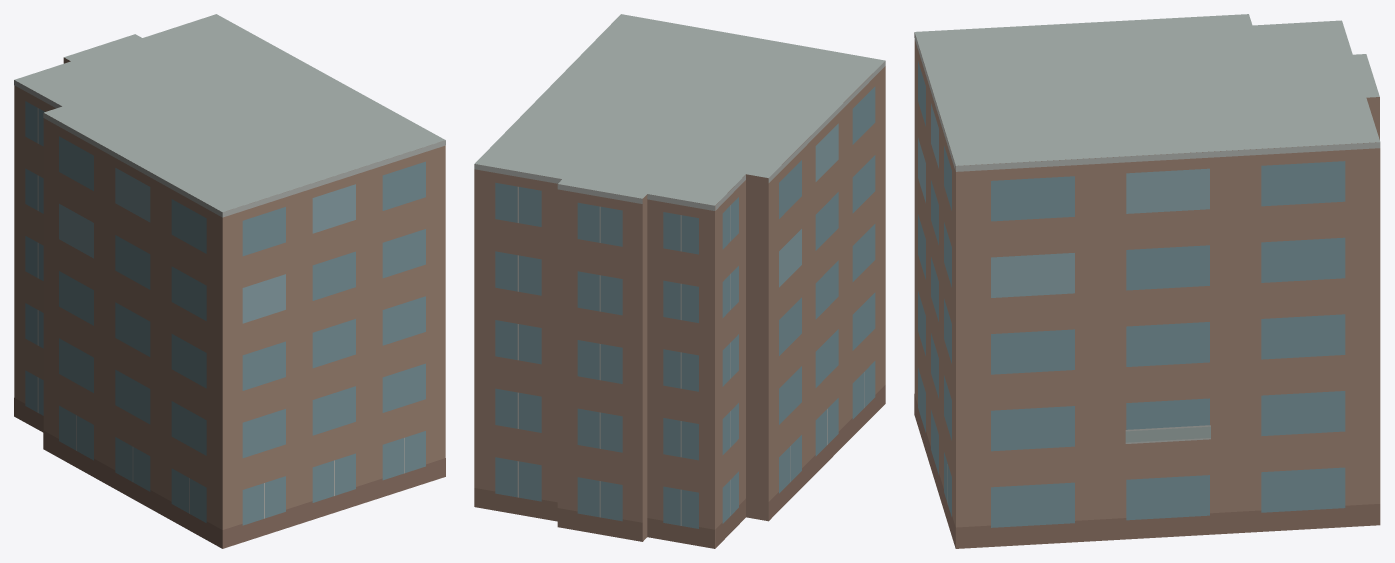
File: survey-upis-32849167.glb
3 views of the same model, side by side, from view 1: azimuth 30°, elevation 25°; view 2: azimuth 150°, elevation 25°; view 3: azimuth 270°, elevation 25° (orthographic). The views are drawn at different scales.
Parts seen in each view (by area): view 1: survey-upis-32849167.tmp; view 2: survey-upis-32849167.tmp; view 3: survey-upis-32849167.tmp.
Boxes of the visible parts, x1,y1,x2,y2 form: survey-upis-32849167.tmp: [14, 14, 445, 548]; survey-upis-32849167.tmp: [474, 14, 885, 548]; survey-upis-32849167.tmp: [914, 14, 1380, 548].
Size of the model in its own units: 13.19 by 15.5 by 17.1.
